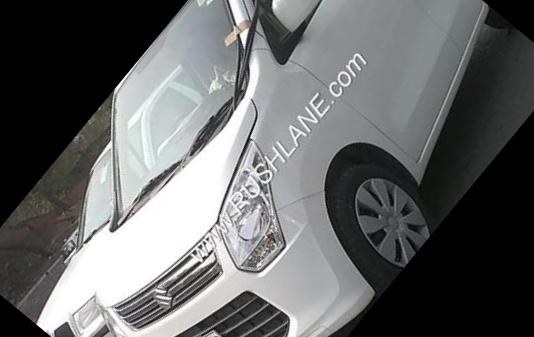plate: (149, 306, 244, 337)
